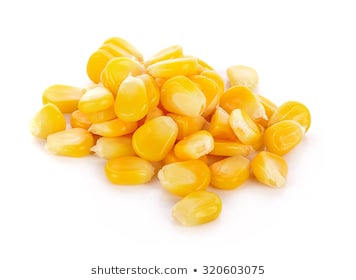corn: (133, 115, 179, 165), (168, 191, 227, 226), (220, 83, 266, 126), (104, 151, 158, 187), (164, 74, 208, 118), (158, 159, 211, 194), (43, 128, 95, 162), (113, 72, 147, 121), (263, 121, 308, 157), (174, 128, 213, 163), (41, 84, 85, 114)
